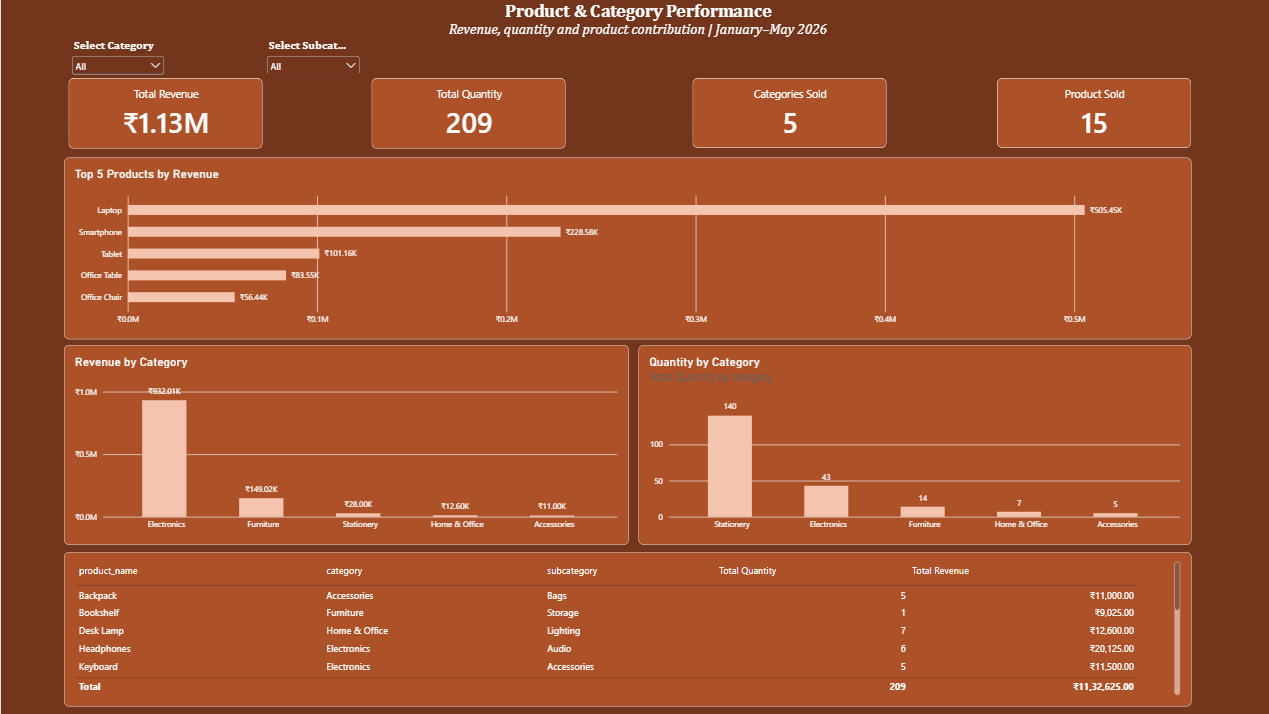

The page's visual inventory and layout, read from the dashboard file:
{"tool":"powerbi","page":{"name":"Product Analysis","canvas":[1920,1080],"ordinal":2},"visuals":[{"type":"textbox","box":[11.6,0,1906.5,75.3],"z":0},{"type":"cardVisual","fields":{"Data":["sales.Total Revenue"]},"box":[103.2,117.9,294.7,107.4],"z":1000},{"type":"cardVisual","fields":{"Data":["sales.Total Quantity"]},"box":[560,117.9,294.7,107.4],"z":2000},{"type":"cardVisual","fields":{"Data":["sales.Categories Sold"]},"box":[1046.3,117.9,294.7,106.3],"z":3000},{"type":"cardVisual","fields":{"Data":["sales.Product Sold"]},"box":[1508.4,117.9,294.7,106.3],"z":4000},{"type":"clusteredBarChart","title":"Top 5 Products by Revenue","fields":{"Category":["products.product_name"],"Y":["sales.Total Revenue"]},"box":[95.8,237.9,1707.5,275],"z":5000},{"type":"clusteredColumnChart","title":"Revenue by Category","fields":{"Category":["products.category"],"Y":["sales.Total Revenue"]},"box":[95,522.5,855,302.5],"z":6000},{"type":"clusteredColumnChart","title":"Quantity by Category","fields":{"Category":["products.category"],"Y":["sales.Total Quantity"]},"box":[965,522.5,837.5,302.5],"z":7000},{"type":"tableEx","fields":{"Values":["products.product_name","products.category","products.subcategory","sales.Total Quantity","sales.Total Revenue"]},"box":[95,835,1707.5,222.5],"z":8000},{"type":"slicer","fields":{"Values":["products.category"]},"box":[103.2,56.8,149.5,61.1],"z":9000},{"type":"slicer","fields":{"Values":["products.subcategory"]},"box":[397.9,56.8,150.5,53.7],"z":10000}]}

Visuals, with their boxes in screenshot pixels (x1, y1, x2, y2), scaled from the page's 1920x1080 canvas onto the 1269x714 screenshot:
textbox: bbox=(8, 0, 1268, 50)
cardVisual - sales.Total Revenue: bbox=(68, 78, 263, 149)
cardVisual - sales.Total Quantity: bbox=(370, 78, 565, 149)
cardVisual - sales.Categories Sold: bbox=(692, 78, 886, 148)
cardVisual - sales.Product Sold: bbox=(997, 78, 1192, 148)
"Top 5 Products by Revenue" clusteredBarChart: bbox=(63, 157, 1192, 339)
"Revenue by Category" clusteredColumnChart: bbox=(63, 345, 628, 545)
"Quantity by Category" clusteredColumnChart: bbox=(638, 345, 1191, 545)
tableEx - products.product_name x products.category: bbox=(63, 552, 1191, 699)
slicer - products.category: bbox=(68, 38, 167, 78)
slicer - products.subcategory: bbox=(263, 38, 362, 73)
